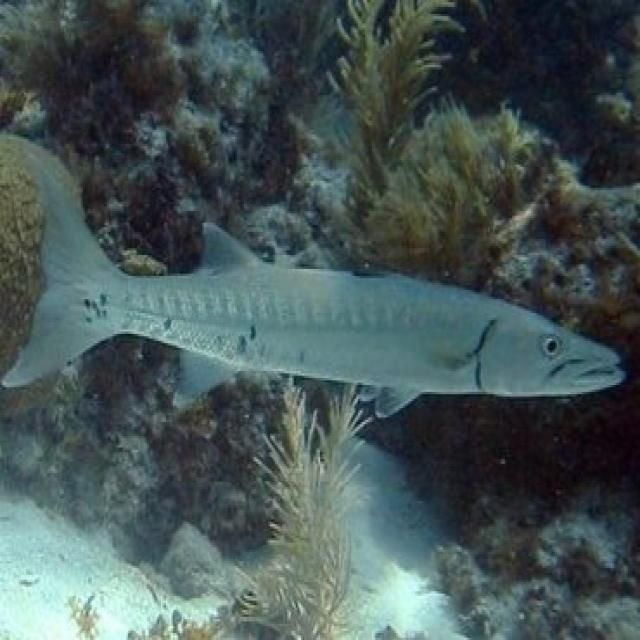Barracuda: (2, 148, 628, 420)
